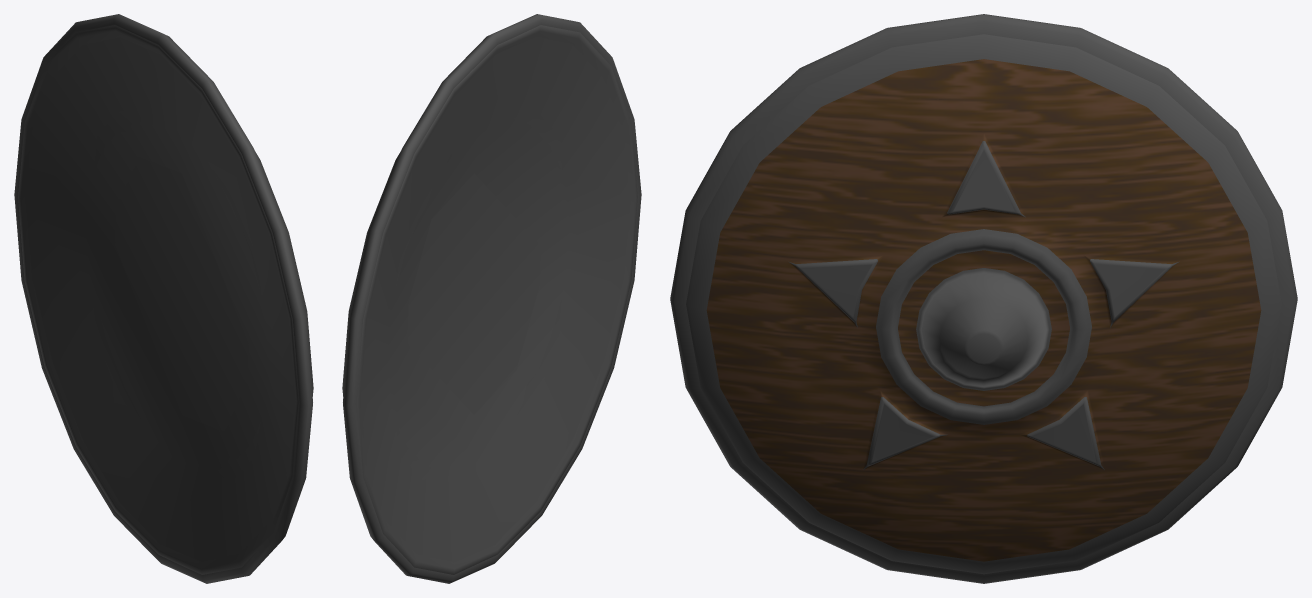
File: carpentry-dark.glb
3 views of the same model, side by side, from view 1: azimuth 30°, elevation 25°; view 2: azimuth 150°, elevation 25°; view 3: azimuth 270°, elevation 25° (orthographic). The views are drawn at different scales.
Parts seen in each view (by area): view 1: ShieldCross, ShieldStar; view 2: ShieldCross, ShieldStar; view 3: ShieldStar, ShieldCross.
Boxes of the visible parts, x1=… form: ShieldCross: x1=14, y1=14, x2=312, y2=583; ShieldStar: x1=18, y1=25, x2=313, y2=574; ShieldCross: x1=343, y1=14, x2=641, y2=583; ShieldStar: x1=342, y1=25, x2=637, y2=574; ShieldStar: x1=686, y1=34, x2=1281, y2=574; ShieldCross: x1=670, y1=14, x2=1297, y2=583.
Bounding box in the file's own units: 0.1359 × 0.6942 × 0.6942.
Materials: 2 (1 with a texture image).
